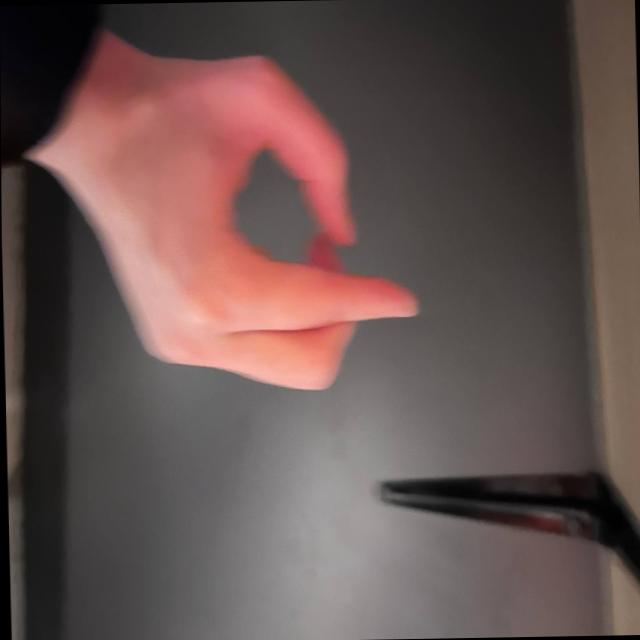b: (91, 56, 474, 406)
